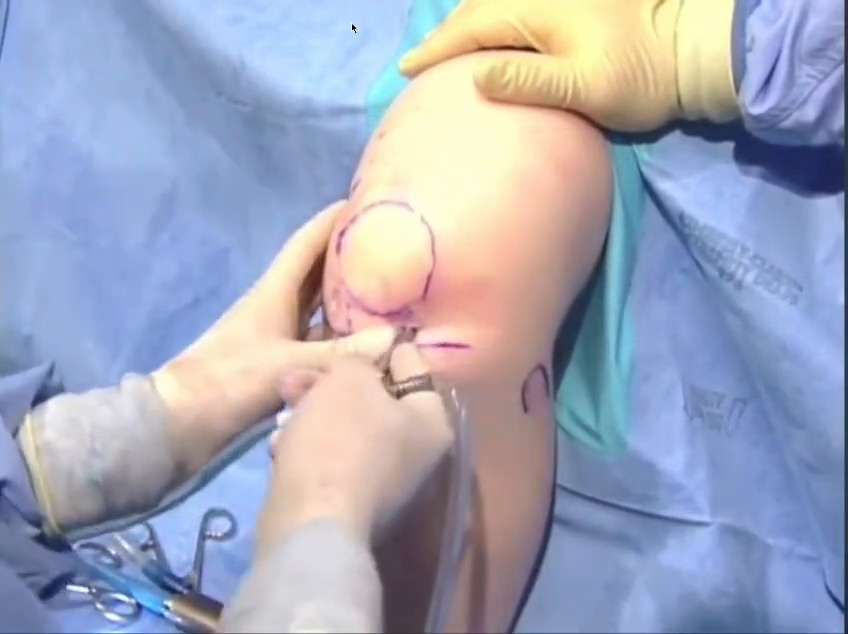arthroscope: (424, 35, 848, 634), (23, 145, 402, 506)
probe: (615, 0, 848, 164), (635, 162, 796, 329)
